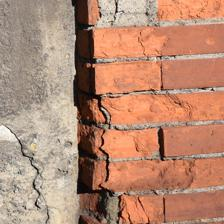Crack: (0, 22, 64, 97), (96, 41, 126, 153), (79, 83, 114, 116), (37, 22, 56, 56)
